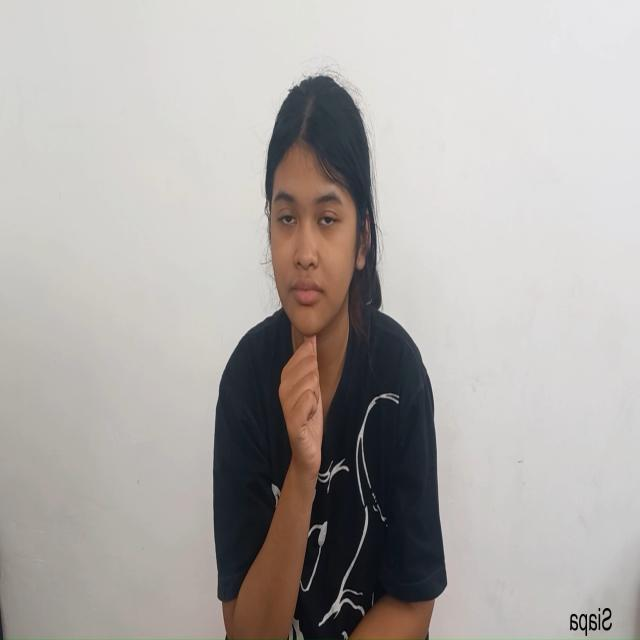Siapa -BISINDO-: (264, 68, 374, 480)
